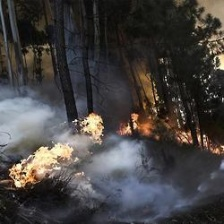fire: (8, 79, 224, 201)
